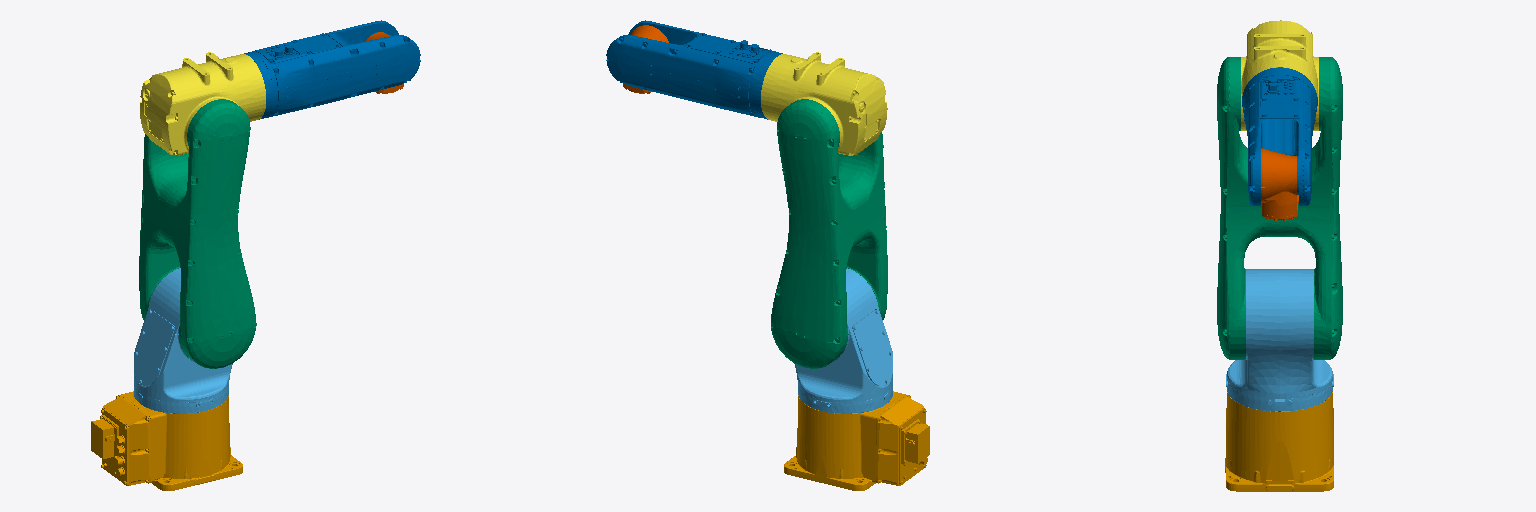
URDF robot description (NEX07C00):
<?xml version="1.0"?>
<robot name="NEX07C00">
  <link name="BASE">
    <visual>
      <geometry>
        <mesh filename="visual/BASE.obj" scale="1.000000 1.000000 1.000000" />
      </geometry>
      <origin rpy="-0.000000 0.000000 0.000000" xyz="0.000000 0.000000 0.000000" />
    </visual>
    <collision>
      <geometry>
        <mesh filename="collision/Collision_0_1.obj" scale="0.001000 0.001000 0.001000" />
      </geometry>
      <origin rpy="-0.000000 0.000000 0.000000" xyz="0.000000 0.000000 0.000000" />
    </collision>
    <collision>
      <geometry>
        <mesh filename="collision/Collision_0_2.obj" scale="0.001000 0.001000 0.001000" />
      </geometry>
      <origin rpy="-0.000000 0.000000 0.000000" xyz="0.000000 0.000000 0.000000" />
    </collision>
    <collision>
      <geometry>
        <mesh filename="collision/Collision_0_3.obj" scale="0.001000 0.001000 0.001000" />
      </geometry>
      <origin rpy="-0.000000 0.000000 0.000000" xyz="0.000000 0.000000 0.000000" />
    </collision>
  </link>
  <link name="S_link">
    <visual>
      <geometry>
        <mesh filename="visual/S.obj" scale="1.000000 1.000000 1.000000" />
      </geometry>
      <origin rpy="1.570796 0.000000 0.000000" xyz="0.000000 0.000000 0.000000" />
    </visual>
    <collision>
      <geometry>
        <mesh filename="collision/Collision_1_1.obj" scale="0.001000 0.001000 0.001000" />
      </geometry>
      <origin rpy="1.570796 0.000000 0.000000" xyz="0.000000 0.000000 0.000000" />
    </collision>
    <collision>
      <geometry>
        <mesh filename="collision/Collision_1_2.obj" scale="0.001000 0.001000 0.001000" />
      </geometry>
      <origin rpy="1.570796 0.000000 0.000000" xyz="0.000000 0.000000 0.000000" />
    </collision>
    <collision>
      <geometry>
        <mesh filename="collision/Collision_1_3.obj" scale="0.001000 0.001000 0.001000" />
      </geometry>
      <origin rpy="1.570796 0.000000 0.000000" xyz="0.000000 0.000000 0.000000" />
    </collision>
  </link>
  <link name="L_link">
    <visual>
      <geometry>
        <mesh filename="visual/L.obj" scale="1.000000 1.000000 1.000000" />
      </geometry>
      <origin rpy="0.000000 0.000000 3.141593" xyz="0.040000 0.000000 -0.330000" />
    </visual>
    <collision>
      <geometry>
        <mesh filename="collision/Collision_2_1.obj" scale="0.001000 0.001000 0.001000" />
      </geometry>
      <origin rpy="0.000000 0.000000 3.141593" xyz="0.040000 0.000000 -0.330000" />
    </collision>
    <collision>
      <geometry>
        <mesh filename="collision/Collision_2_2.obj" scale="0.001000 0.001000 0.001000" />
      </geometry>
      <origin rpy="0.000000 0.000000 3.141593" xyz="0.040000 0.000000 -0.330000" />
    </collision>
    <collision>
      <geometry>
        <mesh filename="collision/Collision_2_3.obj" scale="0.001000 0.001000 0.001000" />
      </geometry>
      <origin rpy="0.000000 0.000000 3.141593" xyz="0.040000 0.000000 -0.330000" />
    </collision>
  </link>
  <link name="U_link">
    <visual>
      <geometry>
        <mesh filename="visual/U.obj" scale="1.000000 1.000000 1.000000" />
      </geometry>
      <origin rpy="-0.000000 0.000000 0.000000" xyz="-0.040000 -0.000000 -0.775000" />
    </visual>
    <collision>
      <geometry>
        <mesh filename="collision/Collision_3_1.obj" scale="0.001000 0.001000 0.001000" />
      </geometry>
      <origin rpy="-0.000000 0.000000 0.000000" xyz="-0.040000 -0.000000 -0.775000" />
    </collision>
    <collision>
      <geometry>
        <mesh filename="collision/Collision_3_2.obj" scale="0.001000 0.001000 0.001000" />
      </geometry>
      <origin rpy="-0.000000 0.000000 0.000000" xyz="-0.040000 -0.000000 -0.775000" />
    </collision>
    <collision>
      <geometry>
        <mesh filename="collision/Collision_3_3.obj" scale="0.001000 0.001000 0.001000" />
      </geometry>
      <origin rpy="-0.000000 0.000000 0.000000" xyz="-0.040000 -0.000000 -0.775000" />
    </collision>
  </link>
  <link name="R_link">
    <visual>
      <geometry>
        <mesh filename="visual/R.obj" scale="1.000000 1.000000 1.000000" />
      </geometry>
      <origin rpy="-0.000000 0.000000 1.570797" xyz="0.000000 0.000000 -0.815000" />
    </visual>
    <collision>
      <geometry>
        <mesh filename="collision/Collision_4_1.obj" scale="0.001000 0.001000 0.001000" />
      </geometry>
      <origin rpy="-0.000000 0.000000 1.570797" xyz="0.000000 0.000000 -0.815000" />
    </collision>
    <collision>
      <geometry>
        <mesh filename="collision/Collision_4_2.obj" scale="0.001000 0.001000 0.001000" />
      </geometry>
      <origin rpy="-0.000000 0.000000 1.570797" xyz="0.000000 0.000000 -0.815000" />
    </collision>
    <collision>
      <geometry>
        <mesh filename="collision/Collision_4_3.obj" scale="0.001000 0.001000 0.001000" />
      </geometry>
      <origin rpy="-0.000000 0.000000 1.570797" xyz="0.000000 0.000000 -0.815000" />
    </collision>
  </link>
  <link name="B_link">
    <visual>
      <geometry>
        <mesh filename="visual/B.obj" scale="1.000000 1.000000 1.000000" />
      </geometry>
      <origin rpy="-0.000000 0.000000 0.000000" xyz="-0.480000 -0.000000 -0.815000" />
    </visual>
    <collision>
      <geometry>
        <mesh filename="collision/Collision_5_1.obj" scale="0.001000 0.001000 0.001000" />
      </geometry>
      <origin rpy="-0.000000 0.000000 0.000000" xyz="-0.480000 -0.000000 -0.815000" />
    </collision>
    <collision>
      <geometry>
        <mesh filename="collision/Collision_5_2.obj" scale="0.001000 0.001000 0.001000" />
      </geometry>
      <origin rpy="-0.000000 0.000000 0.000000" xyz="-0.480000 -0.000000 -0.815000" />
    </collision>
    <collision>
      <geometry>
        <mesh filename="collision/Collision_5_3.obj" scale="0.001000 0.001000 0.001000" />
      </geometry>
      <origin rpy="-0.000000 0.000000 0.000000" xyz="-0.480000 -0.000000 -0.815000" />
    </collision>
  </link>
  <link name="T_link">
    <visual>
      <geometry>
        <mesh filename="visual/T.obj" scale="1.000000 1.000000 1.000000" />
      </geometry>
      <origin rpy="1.570796 0.000000 0.000000" xyz="-0.480000 0.000000 -0.000000" />
    </visual>
    <collision>
      <geometry>
        <mesh filename="collision/Collision_6_1.obj" scale="0.001000 0.001000 0.001000" />
      </geometry>
      <origin rpy="1.570796 0.000000 0.000000" xyz="-0.480000 0.000000 -0.000000" />
    </collision>
    <collision>
      <geometry>
        <mesh filename="collision/Collision_6_2.obj" scale="0.001000 0.001000 0.001000" />
      </geometry>
      <origin rpy="1.570796 0.000000 0.000000" xyz="-0.480000 0.000000 -0.000000" />
    </collision>
    <collision>
      <geometry>
        <mesh filename="collision/Collision_6_3.obj" scale="0.001000 0.001000 0.001000" />
      </geometry>
      <origin rpy="1.570796 0.000000 0.000000" xyz="-0.480000 0.000000 -0.000000" />
    </collision>
  </link>
  <joint name="S" type="revolute">
    <parent link="BASE" />
    <child link="S_link" />
    <axis xyz="0.000000 -1.000000 0.000000" />
    <origin rpy="-1.570796 0.000000 0.000000" xyz="0.000000 0.000000 0.000000" />
    <limit effort="0.000000" lower="-3.141593" upper="3.141593" velocity="6.544985" />
  </joint>
  <joint name="L" type="revolute">
    <parent link="S_link" />
    <child link="L_link" />
    <axis xyz="0.000000 -1.000000 0.000000" />
    <origin rpy="1.570796 3.141593 0.000000" xyz="0.040000 -0.330000 -0.000000" />
    <limit effort="0.000000" lower="-1.745329" upper="2.530727" velocity="5.497787" />
  </joint>
  <joint name="U" type="revolute">
    <parent link="L_link" />
    <child link="U_link" />
    <axis xyz="0.000000 -1.000000 0.000000" />
    <origin rpy="0.000000 0.000000 3.141593" xyz="0.000000 0.000000 0.445001" />
    <limit effort="0.000000" lower="-1.221730" upper="3.316126" velocity="7.155850" />
  </joint>
  <joint name="R" type="revolute">
    <parent link="U_link" />
    <child link="R_link" />
    <axis xyz="0.000000 -1.000000 0.000000" />
    <origin rpy="0.000000 0.000000 -1.570796" xyz="-0.040000 -0.000000 0.040000" />
    <limit effort="0.000000" lower="-3.316126" upper="3.316126" velocity="9.599311" />
  </joint>
  <joint name="B" type="revolute">
    <parent link="R_link" />
    <child link="B_link" />
    <axis xyz="0.000000 -1.000000 0.000000" />
    <origin rpy="-0.000000 0.000000 1.570797" xyz="-0.000000 0.480000 0.000000" />
    <limit effort="0.000000" lower="-0.785398" upper="3.926991" velocity="9.599311" />
  </joint>
  <joint name="T" type="revolute">
    <parent link="B_link" />
    <child link="T_link" />
    <axis xyz="0.000000 -1.000000 0.000000" />
    <origin rpy="-1.570796 0.000000 0.000000" xyz="0.000000 0.000000 -0.815000" />
    <limit effort="0.000000" lower="-6.283185" upper="6.283185" velocity="17.453293" />
  </joint>
  <link name="base" />
  <joint name="base-BASE" type="fixed">
    <origin rpy="0.000000 0.000000 0.000000" xyz="0.000000 0.000000 -0.330000" />
    <parent link="base" />
    <child link="BASE" />
  </joint>
  <link name="flange" />
  <joint name="T-flange" type="fixed">
    <origin rpy="0.012341 0.000000 -0.000000" xyz="0.000000 -0.735001 -0.000000" />
    <parent link="T_link" />
    <child link="flange" />
  </joint>
  <link name="tool0" />
  <joint name="flange-tool0" type="fixed">
    <origin rpy="0 0 0" xyz="0 0 0" />
    <parent link="flange" />
    <child link="tool0" />
  </joint>
</robot>

--- Facts derived from the render (not from the file) ---
3 views of the same robot in one strip: view 1: azimuth 30°, elevation 25°; view 2: azimuth 150°, elevation 25°; view 3: azimuth 270°, elevation 25° (orthographic).
Robot: NEX07C00 — 10 links, 9 joints (6 revolute, 3 fixed); root link base; default pose: every joint at zero.
Links seen in each view (by area): view 1: L_link, BASE, R_link, S_link, U_link; view 2: L_link, BASE, R_link, S_link, U_link; view 3: L_link, S_link, BASE, R_link, U_link, B_link.
Boxes of the visible links, x1,y1,x2,y2 form: L_link: [139, 99, 256, 368]; BASE: [91, 391, 242, 490]; R_link: [244, 20, 420, 119]; S_link: [134, 268, 232, 413]; U_link: [140, 52, 265, 155]; L_link: [771, 99, 887, 368]; BASE: [784, 391, 929, 490]; R_link: [606, 20, 782, 119]; S_link: [795, 268, 892, 413]; U_link: [761, 52, 887, 155]; L_link: [1217, 57, 1342, 359]; S_link: [1226, 269, 1333, 411]; BASE: [1225, 392, 1333, 491]; R_link: [1242, 67, 1317, 205]; U_link: [1241, 20, 1318, 130]; B_link: [1261, 148, 1298, 220].
Bounding box of the posed robot: 0.7277 × 0.2306 × 0.8911 m (x, y, z).
Meshes: 7 distinct files referenced, 7 mesh visuals loaded (7 OBJ).
